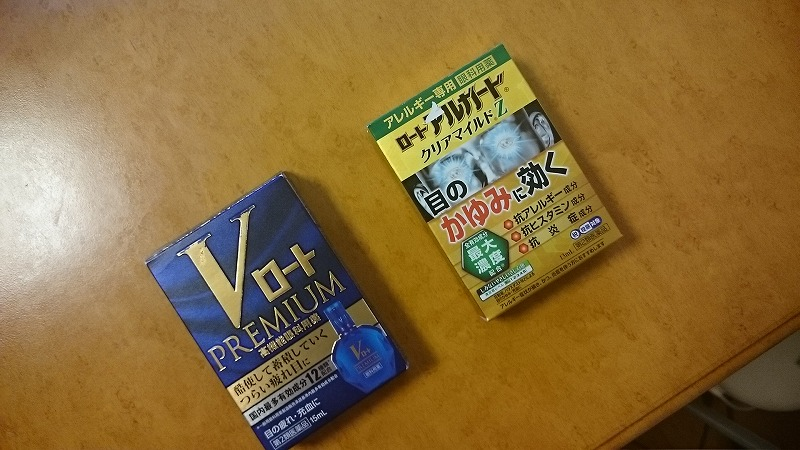C: (360, 35, 632, 326)
D: (140, 159, 409, 450)
